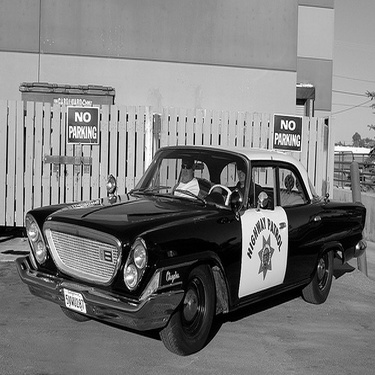car: (35, 120, 362, 343)
